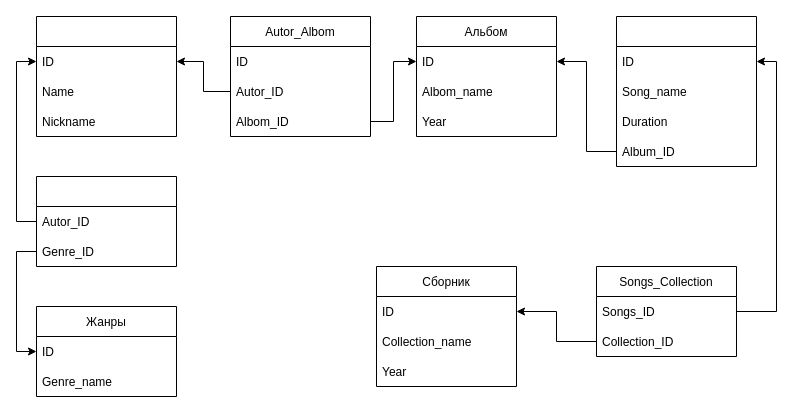
This 793x413 diagram has some shape labels left out. Here are the shapes that lost their labels. From the top down, the box of each, then its label:
(36, 16, 176, 136): Исполнитель
(616, 16, 756, 166): Треки
(36, 176, 176, 266): Autor_Genre
